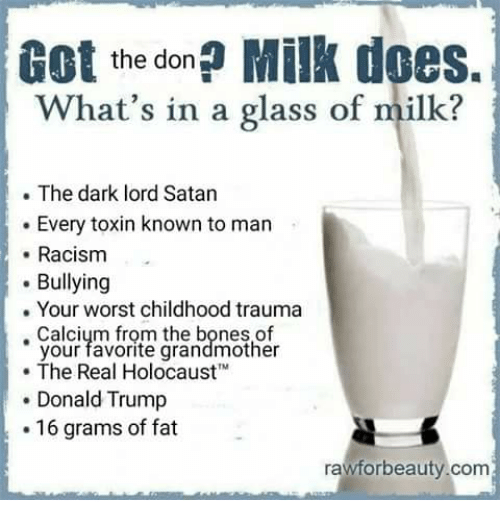glass of milk: (319, 202, 464, 450)
